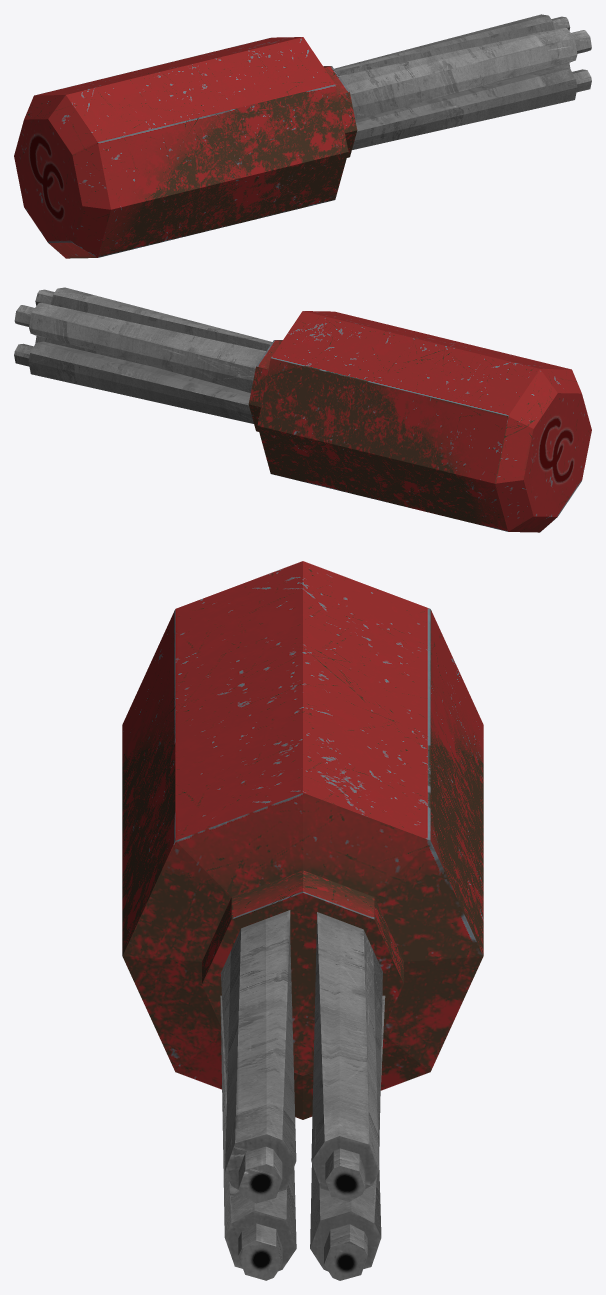
The model's file is TurretGun.glb.
3 views of the same model, one above another, from view 1: azimuth 30°, elevation 25°; view 2: azimuth 150°, elevation 25°; view 3: azimuth 270°, elevation 25° (orthographic). The views are drawn at different scales.
Parts seen in each view (by area): view 1: Cube.002; view 2: Cube.002; view 3: Cube.002.
Boxes of the visible parts, x1,y1,x2,y2 form: Cube.002: (14,14,591,258); Cube.002: (14,287,591,532); Cube.002: (122,561,483,1280).
Size of the model in its own units: 3.26 by 0.9654 by 0.9654.
Materials: 2 (2 with a texture image).
